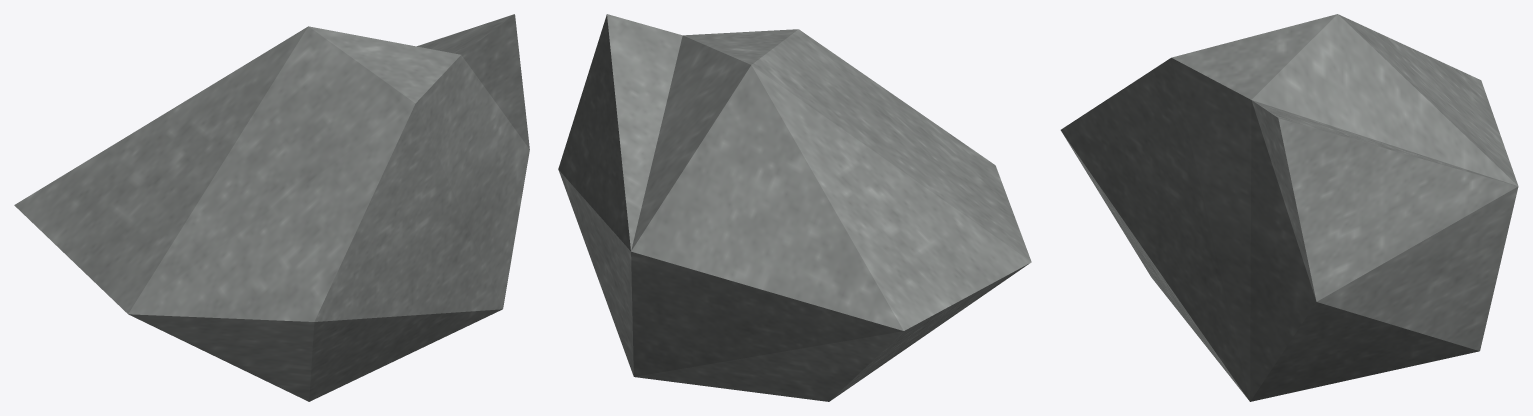
File: stone_broken_cobble.glb
3 views of the same model, side by side, from view 1: azimuth 30°, elevation 25°; view 2: azimuth 150°, elevation 25°; view 3: azimuth 270°, elevation 25° (orthographic). The views are drawn at different scales.
Parts seen in each view (by area): view 1: stone_broken_cobble; view 2: stone_broken_cobble; view 3: stone_broken_cobble.
Boxes of the visible parts, x1,y1,x2,y2 form: stone_broken_cobble: (14, 14, 529, 401); stone_broken_cobble: (558, 14, 1031, 401); stone_broken_cobble: (1060, 14, 1518, 401).
Size of the model in its own units: 0.42 by 0.26 by 0.35.
Materials: 1 (1 with a texture image).
